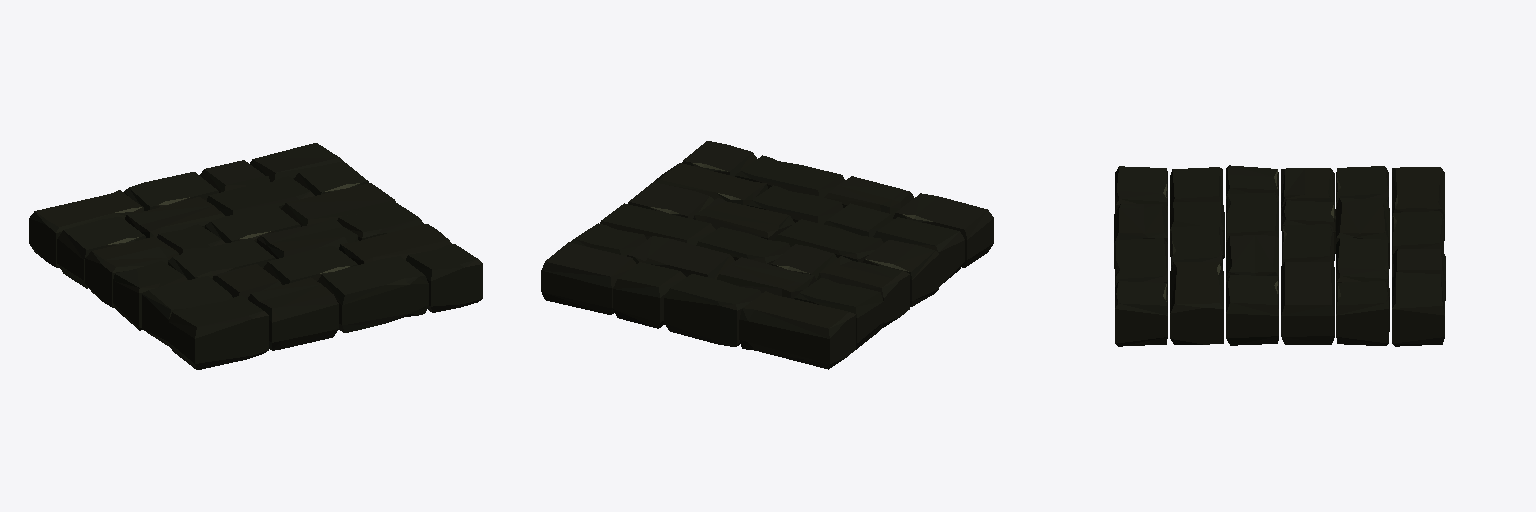
The model's file is Floor_Standard.obj.
The picture shows the model from 3 angles: view 1: azimuth 30°, elevation 25°; view 2: azimuth 150°, elevation 25°; view 3: azimuth 270°, elevation 25°; orthographic projection.
Visible parts, largest first — view 1: Floor_Standard; view 2: Floor_Standard; view 3: Floor_Standard.
Part boxes in pixels (bbox=[...]): Floor_Standard: bbox=[29, 143, 482, 369]; Floor_Standard: bbox=[541, 141, 993, 369]; Floor_Standard: bbox=[1114, 165, 1445, 346].
Size of the model in its own units: 1.99 by 0.2859 by 1.98.